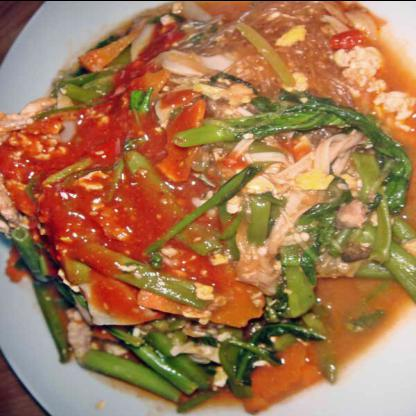Suki: (7, 1, 415, 393)
